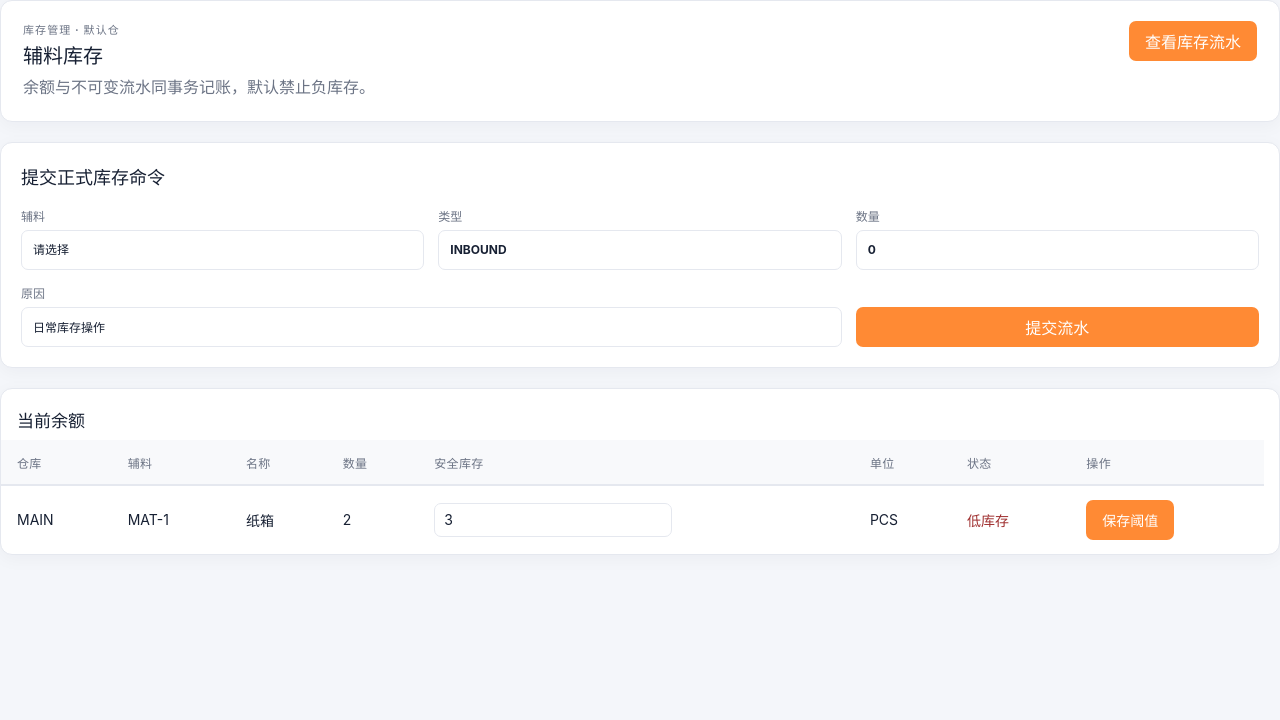
InventoryView formal mode › keeps the legacy inventory controls integer-only
Select "MAT-1 · 纸箱" in the dropdown labelled "辅料". click: [223, 250]
box: [21,230,424,270]
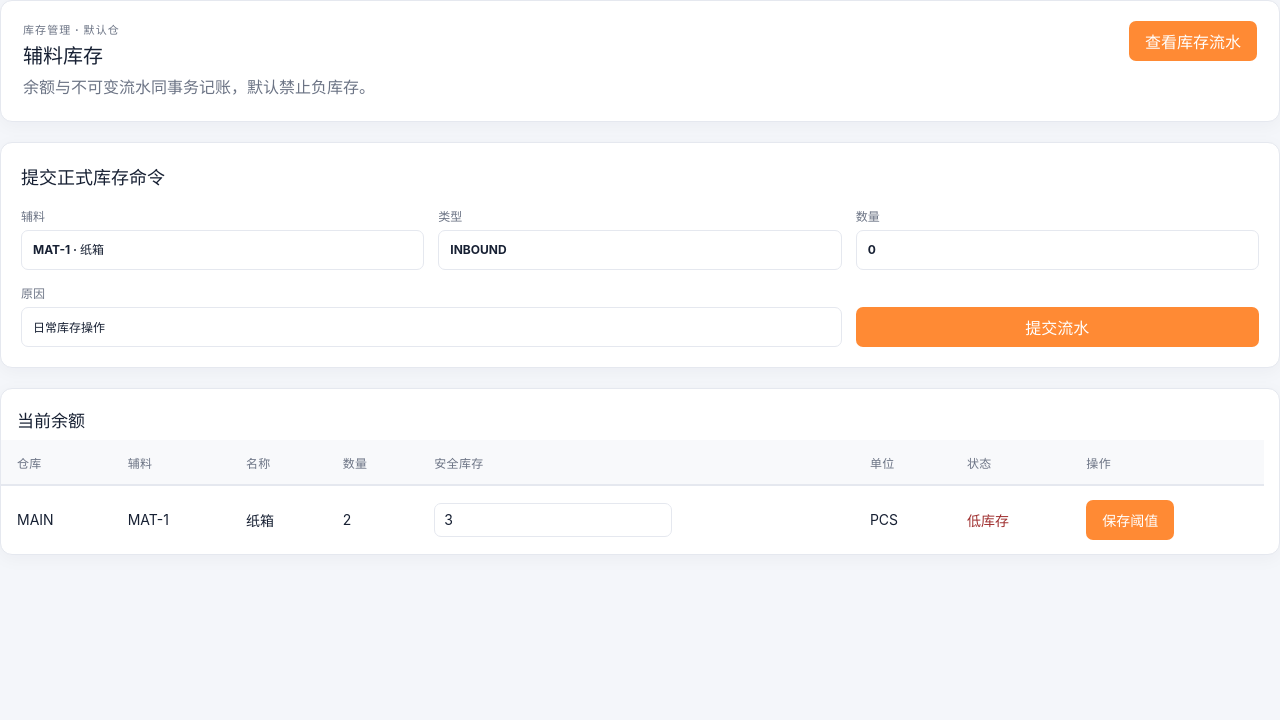
Replace the text in the number field labelled "数量" with "1.5". click: [1057, 250]
box: [856,230,1259,270]
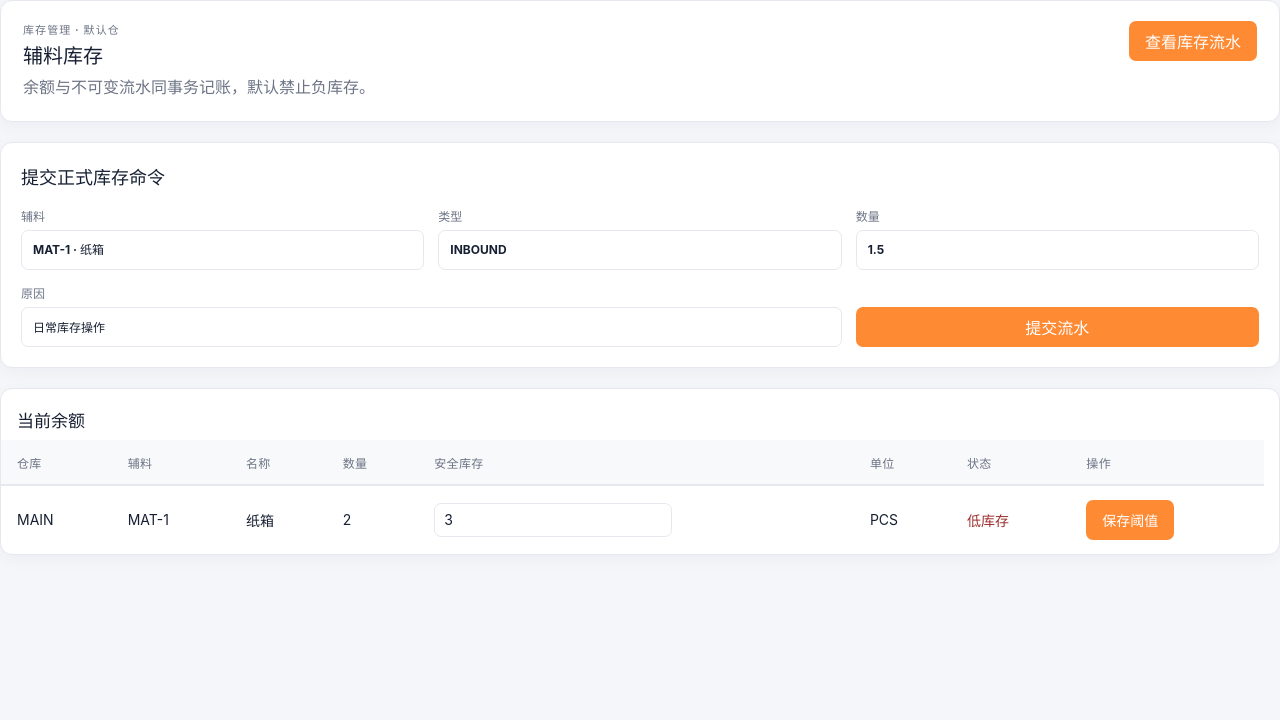
Submit the form, box [0,142,1279,368]
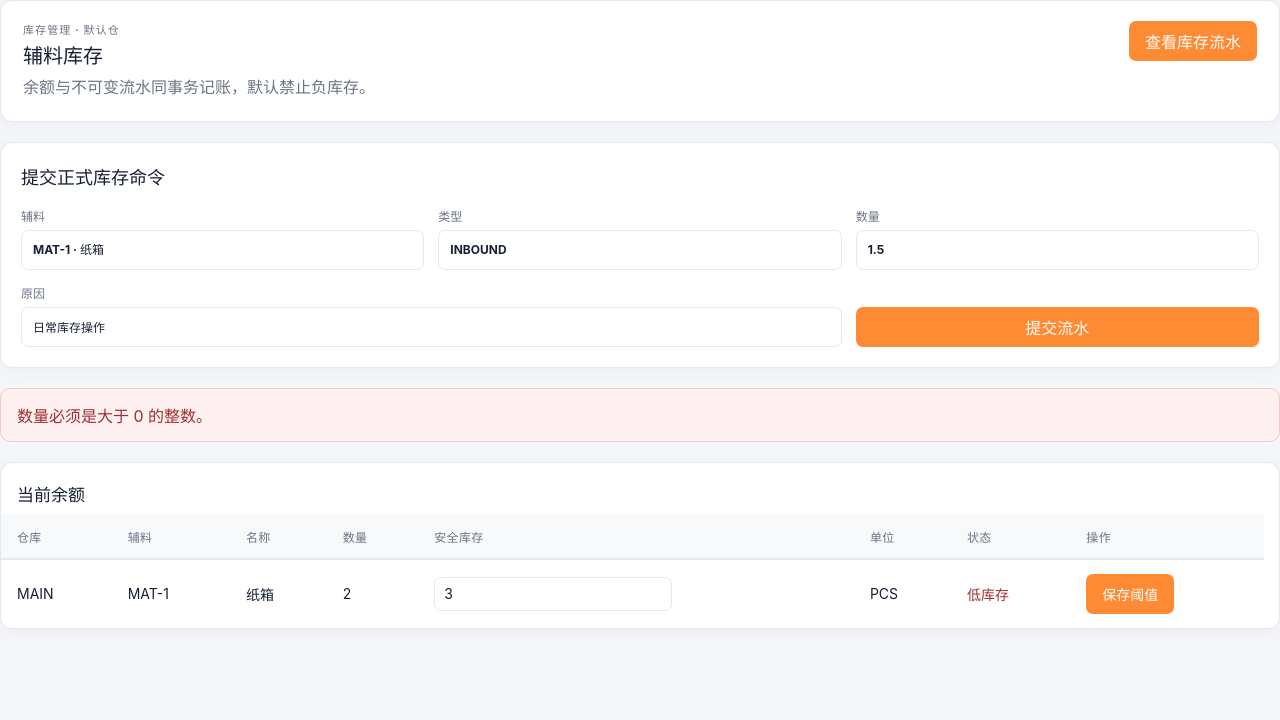
Expected: the message "数量必须是大于 0 的整数。" is shown, [0,388,1279,442]
Replace the text in the 2nd number field with "2.5". click: [553, 594]
box: [434,577,672,611]
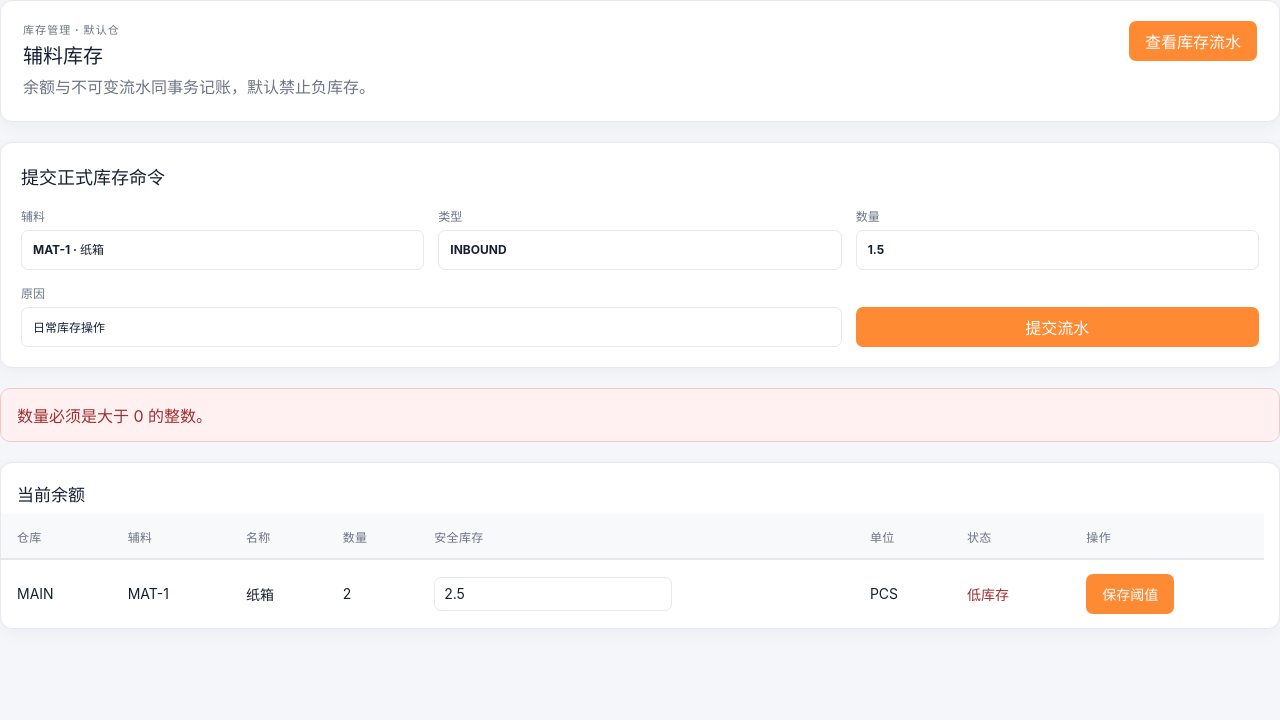
Click the button "保存阈值". click: [1130, 594]
box: [1086,574,1174,614]
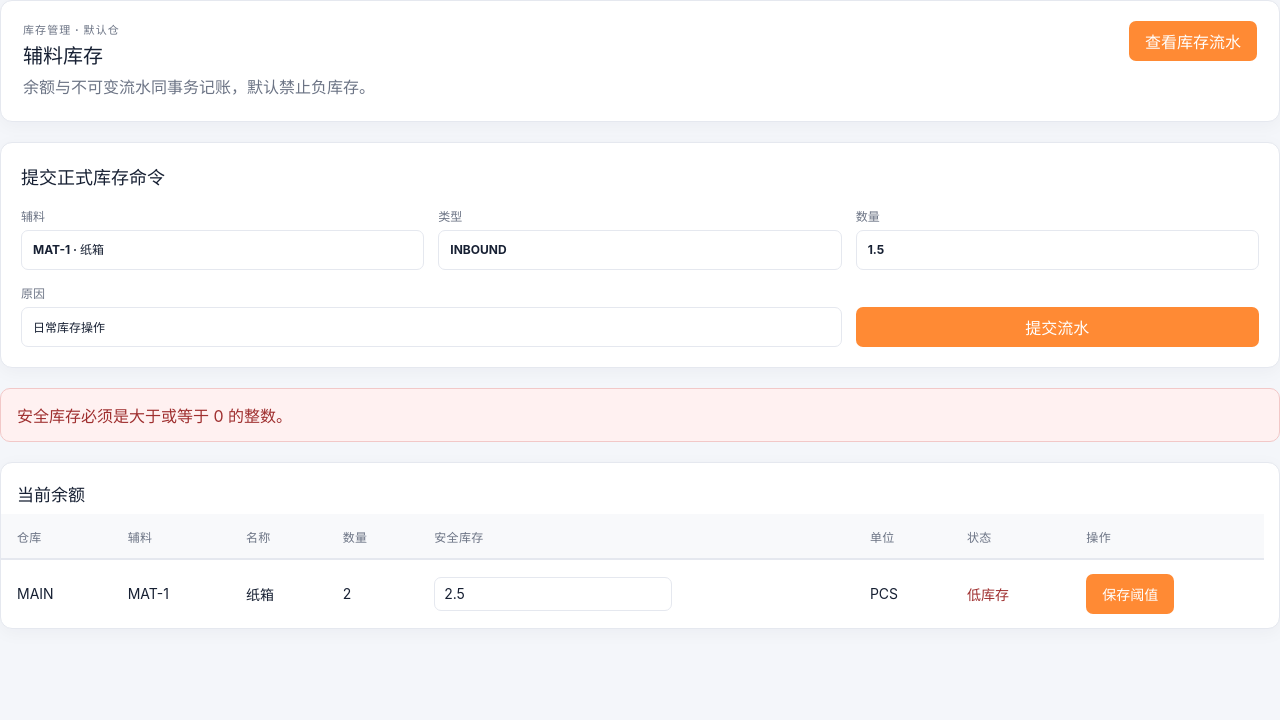
Expected: the message "安全库存必须是大于或等于 0 的整数。" is shown, [0,388,1279,442]
